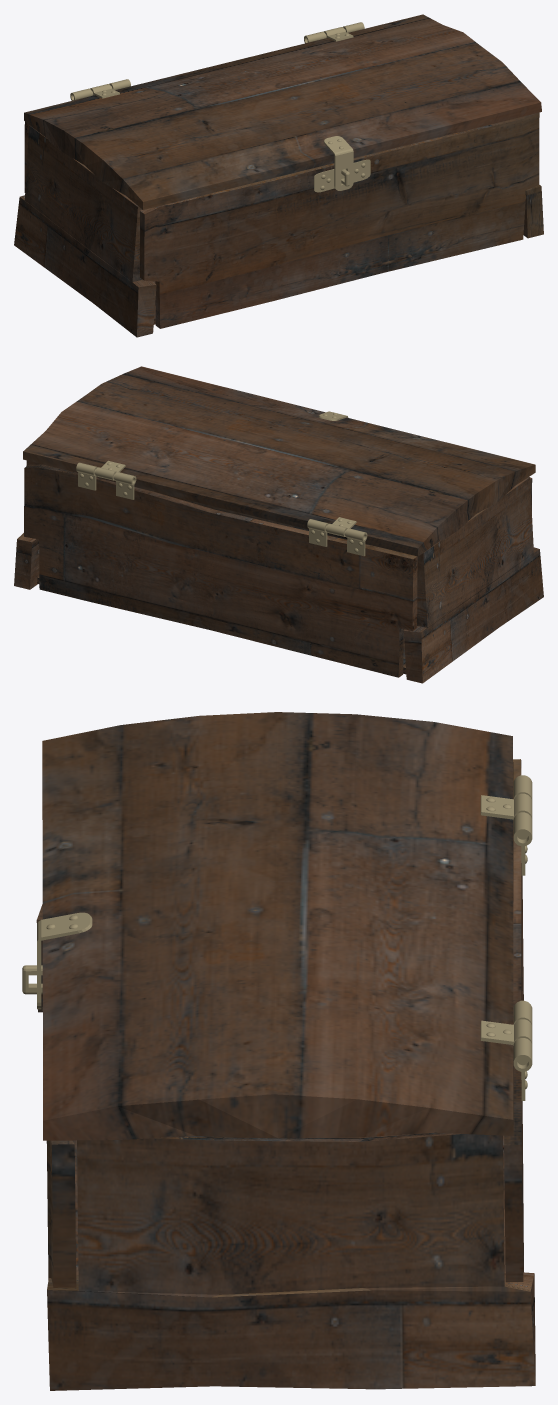
The model's file is WoodCrate.fbx.
3 views of the same model, one above another, from view 1: azimuth 30°, elevation 25°; view 2: azimuth 150°, elevation 25°; view 3: azimuth 270°, elevation 25° (orthographic). The views are drawn at different scales.
Parts seen in each view (by area): view 1: WoodCrateLOD0; view 2: WoodCrateLOD0; view 3: WoodCrateLOD0.
Boxes of the visible parts, x1,y1,x2,y2 form: WoodCrateLOD0: (14, 14, 543, 337); WoodCrateLOD0: (14, 366, 543, 683); WoodCrateLOD0: (22, 712, 535, 1390).
Size of what is drawn, in the model's own units: 0.3989 by 0.1377 by 0.2185.
